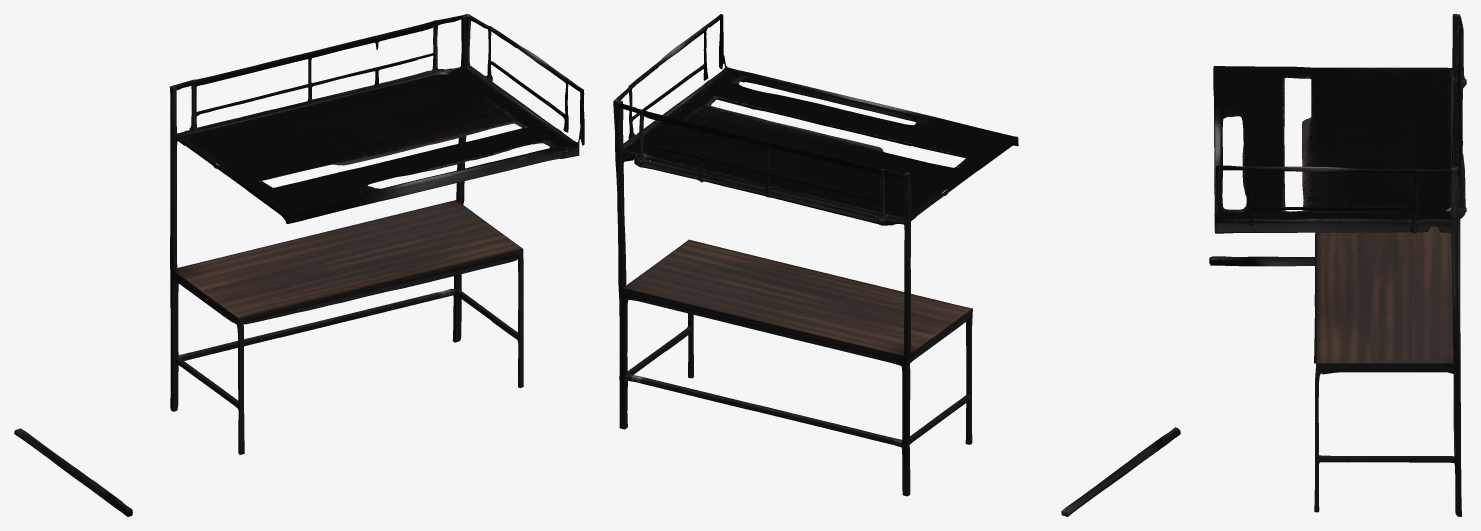
3 views of the same model, side by side, from view 1: azimuth 30°, elevation 25°; view 2: azimuth 150°, elevation 25°; view 3: azimuth 270°, elevation 25° (orthographic). The views are drawn at different scales.
Parts seen in each view (by area): view 1: world; view 2: world; view 3: world.
Boxes of the visible parts, bbox=[...] form: world: bbox=[14, 14, 584, 516]; world: bbox=[613, 14, 1180, 516]; world: bbox=[1209, 14, 1466, 516].
Size of the model in its own units: 0.9789 by 0.6694 by 0.438.
1 material, 1 textured.
